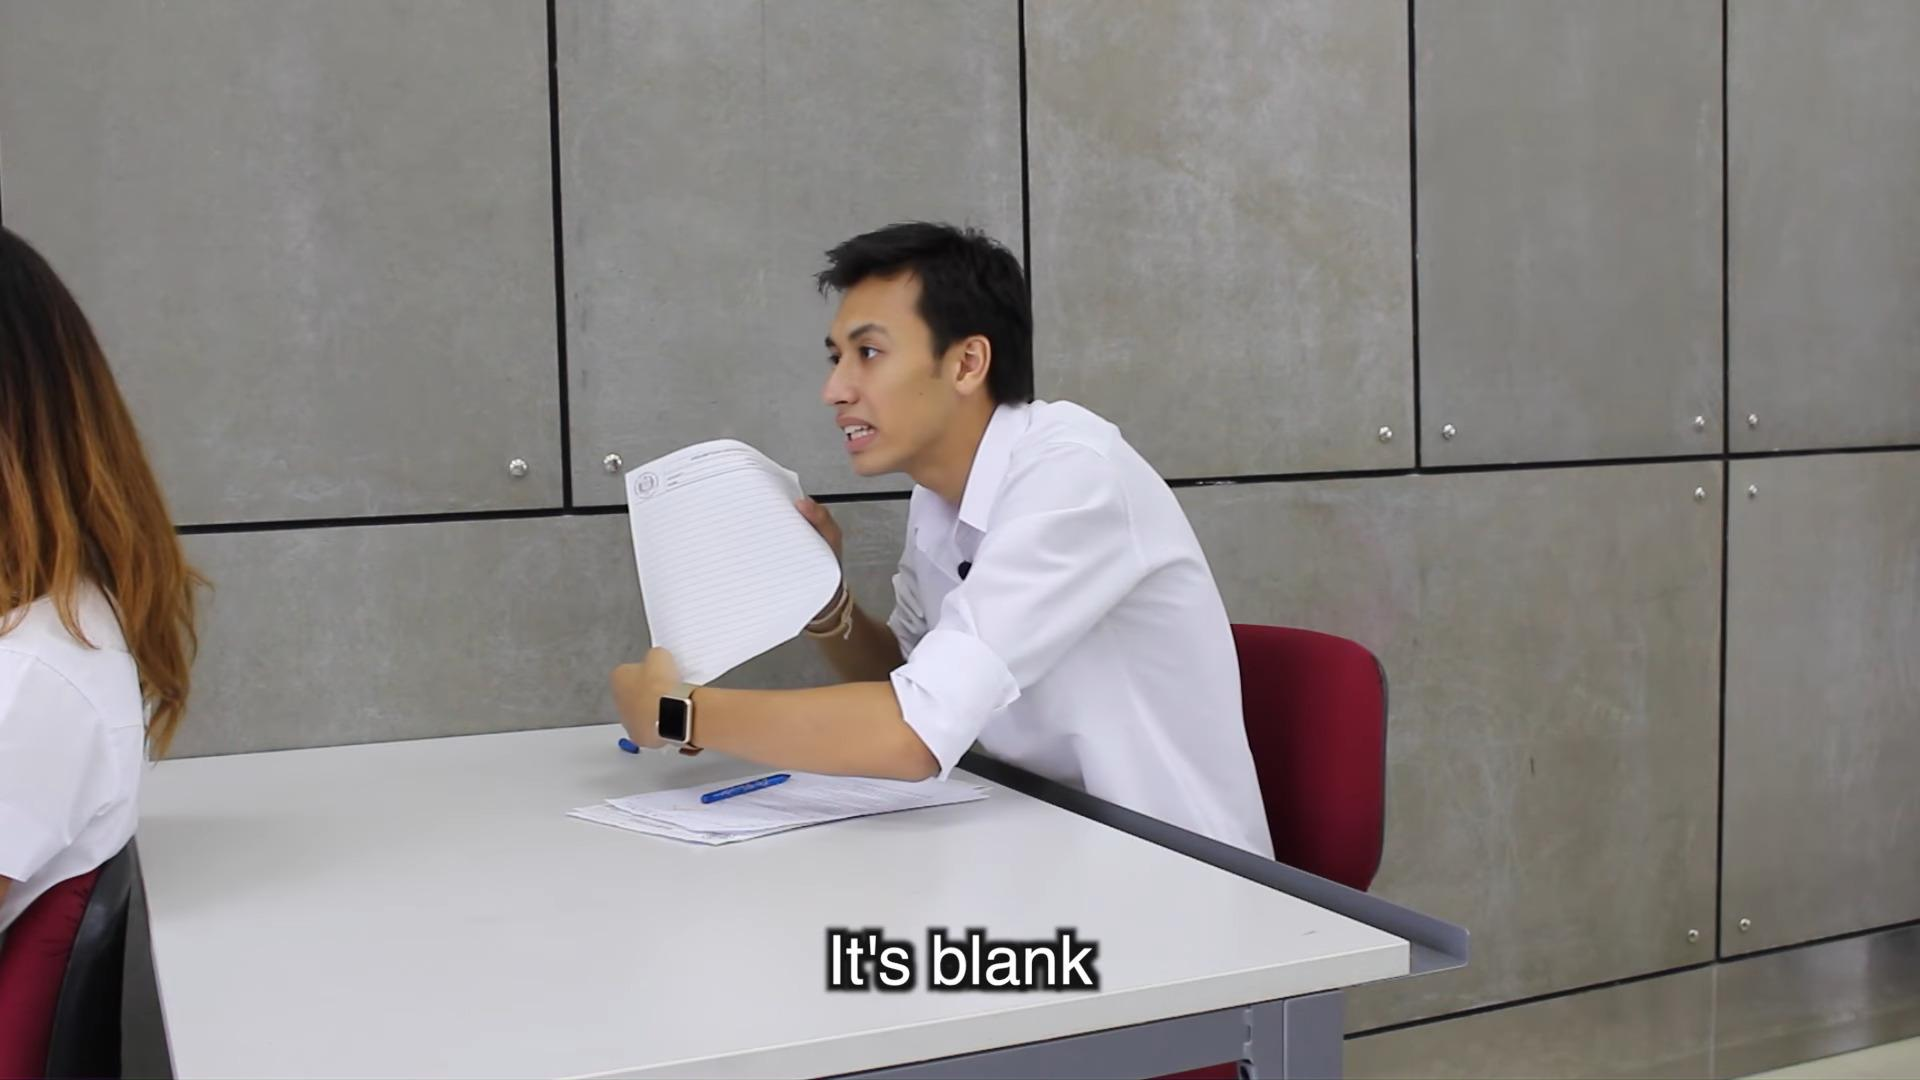cheating: (541, 195, 1323, 873)
